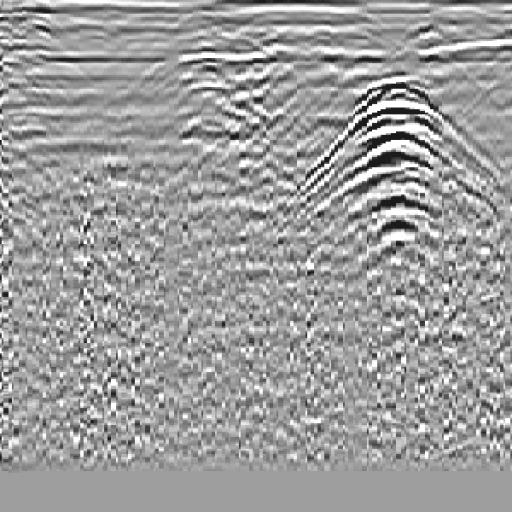metalic: (297, 80, 496, 256)
